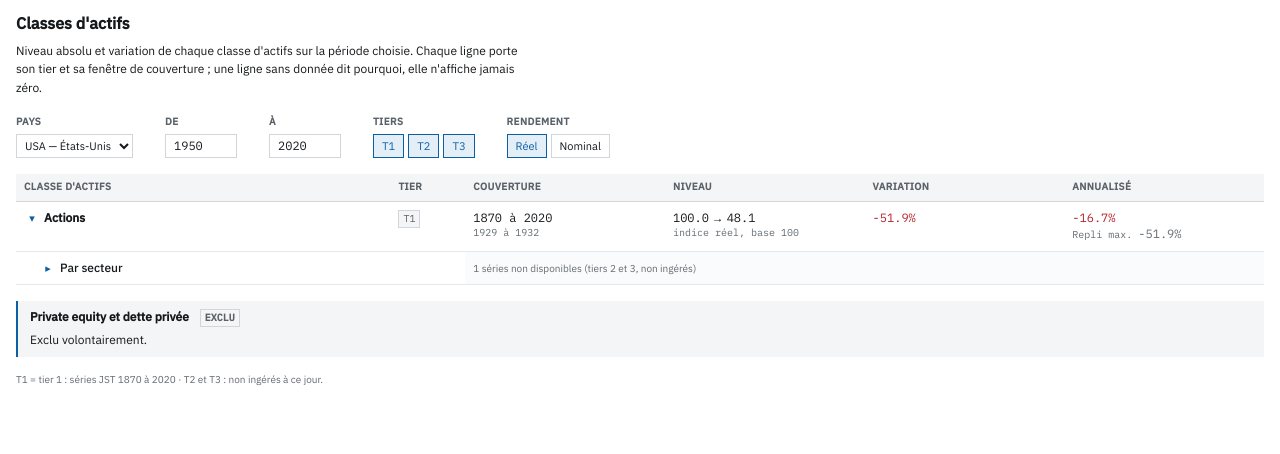
Test: AssetClassesView › filters rows by tier
This screenshot has width=1280, height=454.
Expected: the column heading "▾ Actions" is shown, [16, 202, 390, 251]
Click the button named "Déplier Par secteur" at coordinates (48, 268), box [40, 261, 56, 275]
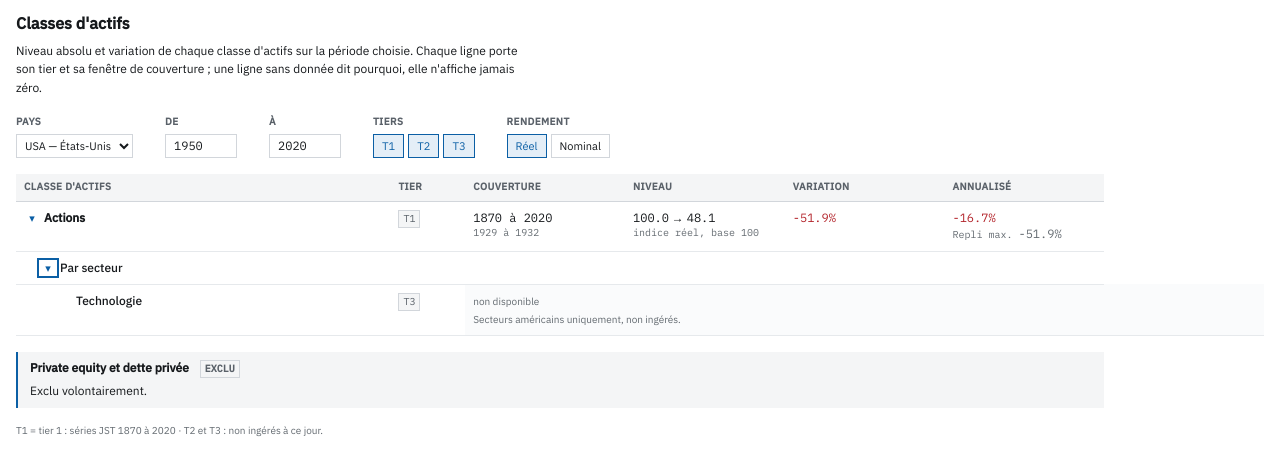
Expected: the column heading "Technologie" is shown, [16, 284, 390, 335]
Click the button "T3" at coordinates (459, 146), box [443, 134, 475, 158]
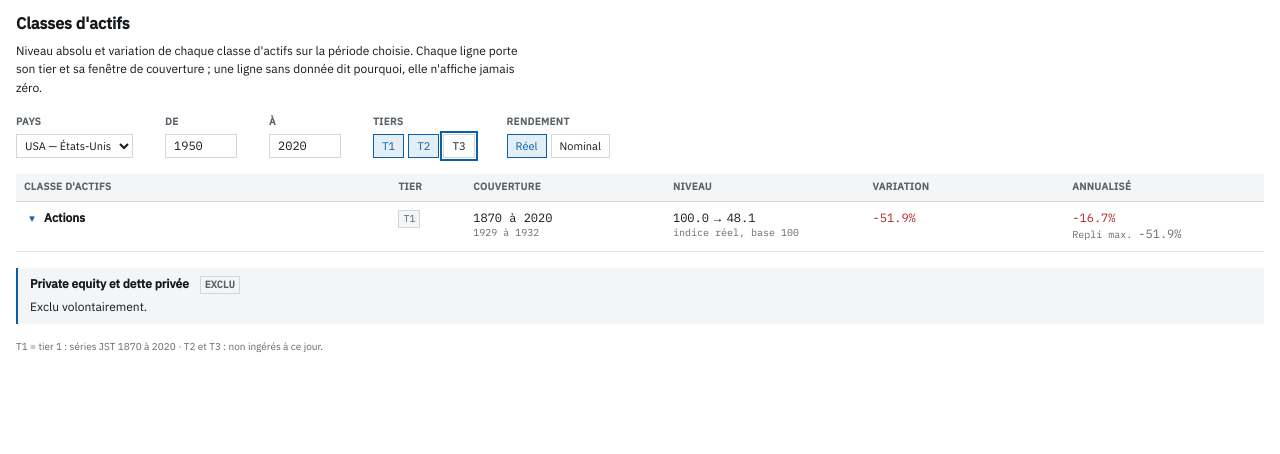
Expected: the column heading "▾ Actions" is shown, [16, 202, 390, 251]
Expected: the column heading "Technologie" is gone
